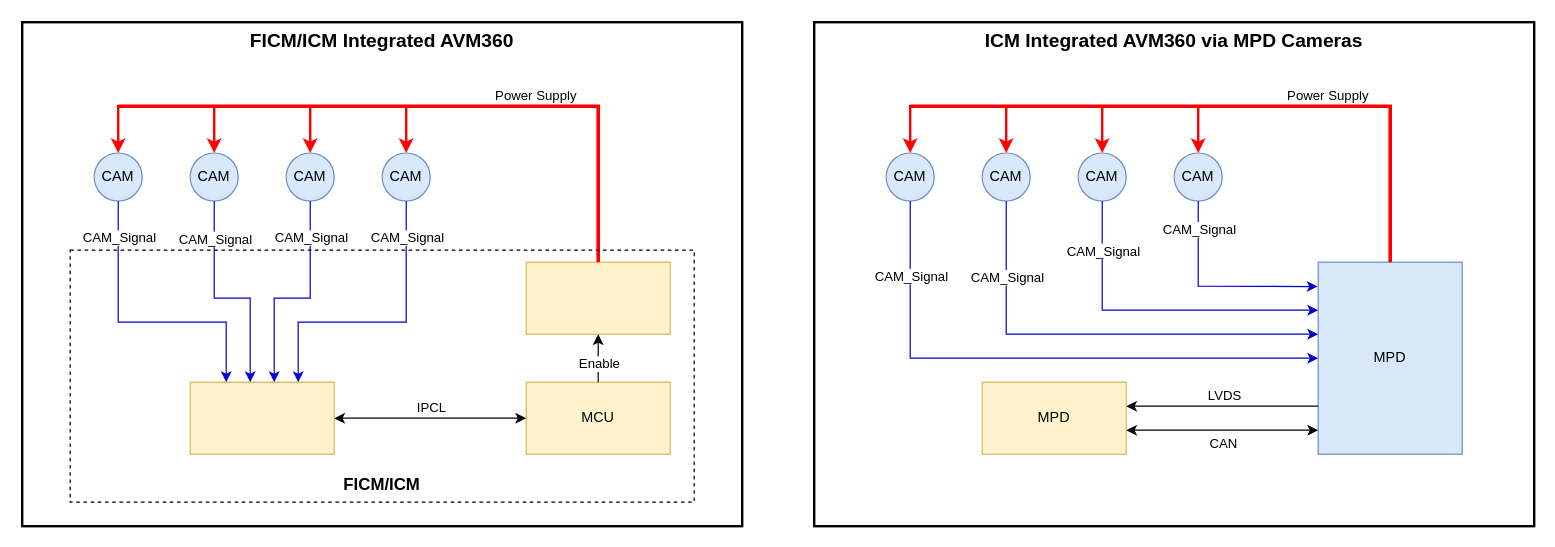
The diagram is 1555 pixels wide and 547 high, and some of its shapes have lost their labels. Each missing label, with the box of its shape:
DC-DC: (525, 261, 670, 334)
SoC: (189, 381, 334, 454)
